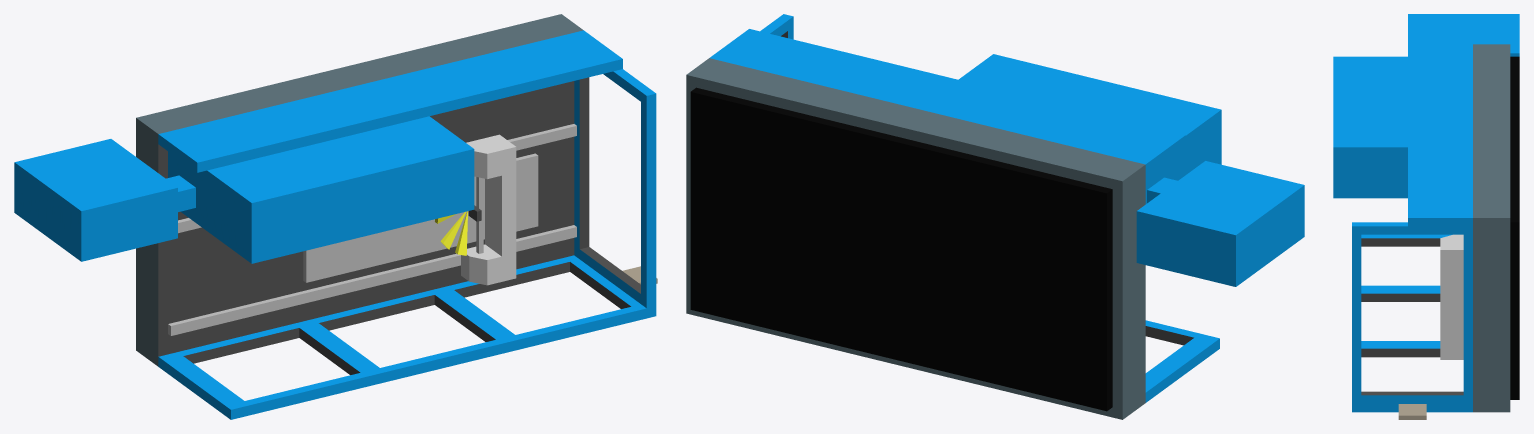
The model's file is cnc_cutting_machine_5_state_2.dae.
3 views of the same model, side by side, from view 1: azimuth 30°, elevation 25°; view 2: azimuth 150°, elevation 25°; view 3: azimuth 270°, elevation 25° (orthographic). The views are drawn at different scales.
Parts seen in each view (by area): view 1: coords_ME_ID73_MA_material_6, coords_ME_ID79_MA_material, coords_ME_ID67_MA_material_6, coords_ME_ID105_MA_material_16, coords_ME_ID3_MA_material_11, coords_ME_ID91_MA_material_8, coords_ME_ID113_MA_material_11, coords_ME_ID131_MA_material, coords_ME_ID85_MA_material, coords_ME_ID11_MA_material, coords_ME_ID125_MA_material, coords_ME_ID33_MA_material_11 (+1 smaller); view 2: coords_ME_ID45_MA_material_9, coords_ME_ID73_MA_material_6, coords_ME_ID105_MA_material_16, coords_ME_ID67_MA_material_6; view 3: coords_ME_ID73_MA_material_6, coords_ME_ID105_MA_material_16, coords_ME_ID67_MA_material_6, coords_ME_ID45_MA_material_9, coords_ME_ID91_MA_material_8, coords_ME_ID125_MA_material, coords_ME_ID11_MA_material, coords_ME_ID85_MA_material, coords_ME_ID131_MA_material, coords_ME_ID53_MA_material_13.
Part boxes in pixels (bbox=[...]): coords_ME_ID73_MA_material_6: bbox=[158, 30, 656, 419]; coords_ME_ID79_MA_material: bbox=[158, 81, 574, 356]; coords_ME_ID67_MA_material_6: bbox=[14, 139, 177, 261]; coords_ME_ID105_MA_material_16: bbox=[136, 14, 583, 366]; coords_ME_ID3_MA_material_11: bbox=[303, 153, 538, 282]; coords_ME_ID91_MA_material_8: bbox=[461, 134, 516, 285]; coords_ME_ID113_MA_material_11: bbox=[168, 225, 576, 335]; coords_ME_ID131_MA_material: bbox=[579, 77, 640, 293]; coords_ME_ID85_MA_material: bbox=[319, 295, 495, 341]; coords_ME_ID11_MA_material: bbox=[183, 328, 360, 375]; coords_ME_ID125_MA_material: bbox=[454, 262, 630, 308]; coords_ME_ID33_MA_material_11: bbox=[178, 124, 576, 233]; coords_ME_ID45_MA_material_9: bbox=[690, 87, 1112, 411]; coords_ME_ID73_MA_material_6: bbox=[710, 14, 1221, 402]; coords_ME_ID105_MA_material_16: bbox=[686, 58, 1145, 419]; coords_ME_ID67_MA_material_6: bbox=[1136, 161, 1304, 286]; coords_ME_ID73_MA_material_6: bbox=[1333, 44, 1472, 412]; coords_ME_ID105_MA_material_16: bbox=[1473, 44, 1510, 412]; coords_ME_ID67_MA_material_6: bbox=[1408, 14, 1519, 56]; coords_ME_ID45_MA_material_9: bbox=[1510, 56, 1519, 399]; coords_ME_ID91_MA_material_8: bbox=[1440, 234, 1463, 359]; coords_ME_ID125_MA_material: bbox=[1361, 348, 1440, 357]; coords_ME_ID11_MA_material: bbox=[1361, 238, 1440, 246]; coords_ME_ID85_MA_material: bbox=[1361, 293, 1440, 301]; coords_ME_ID131_MA_material: bbox=[1361, 391, 1463, 395]; coords_ME_ID53_MA_material_13: bbox=[1398, 404, 1426, 419].
Size of the model in its own units: 83.62 by 32.6 by 28.35.
